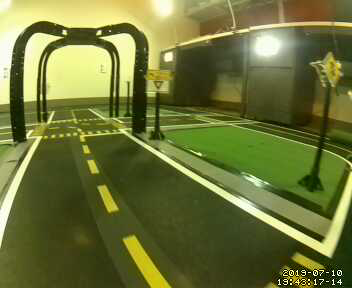Turn Yield: (145, 68, 173, 96)
